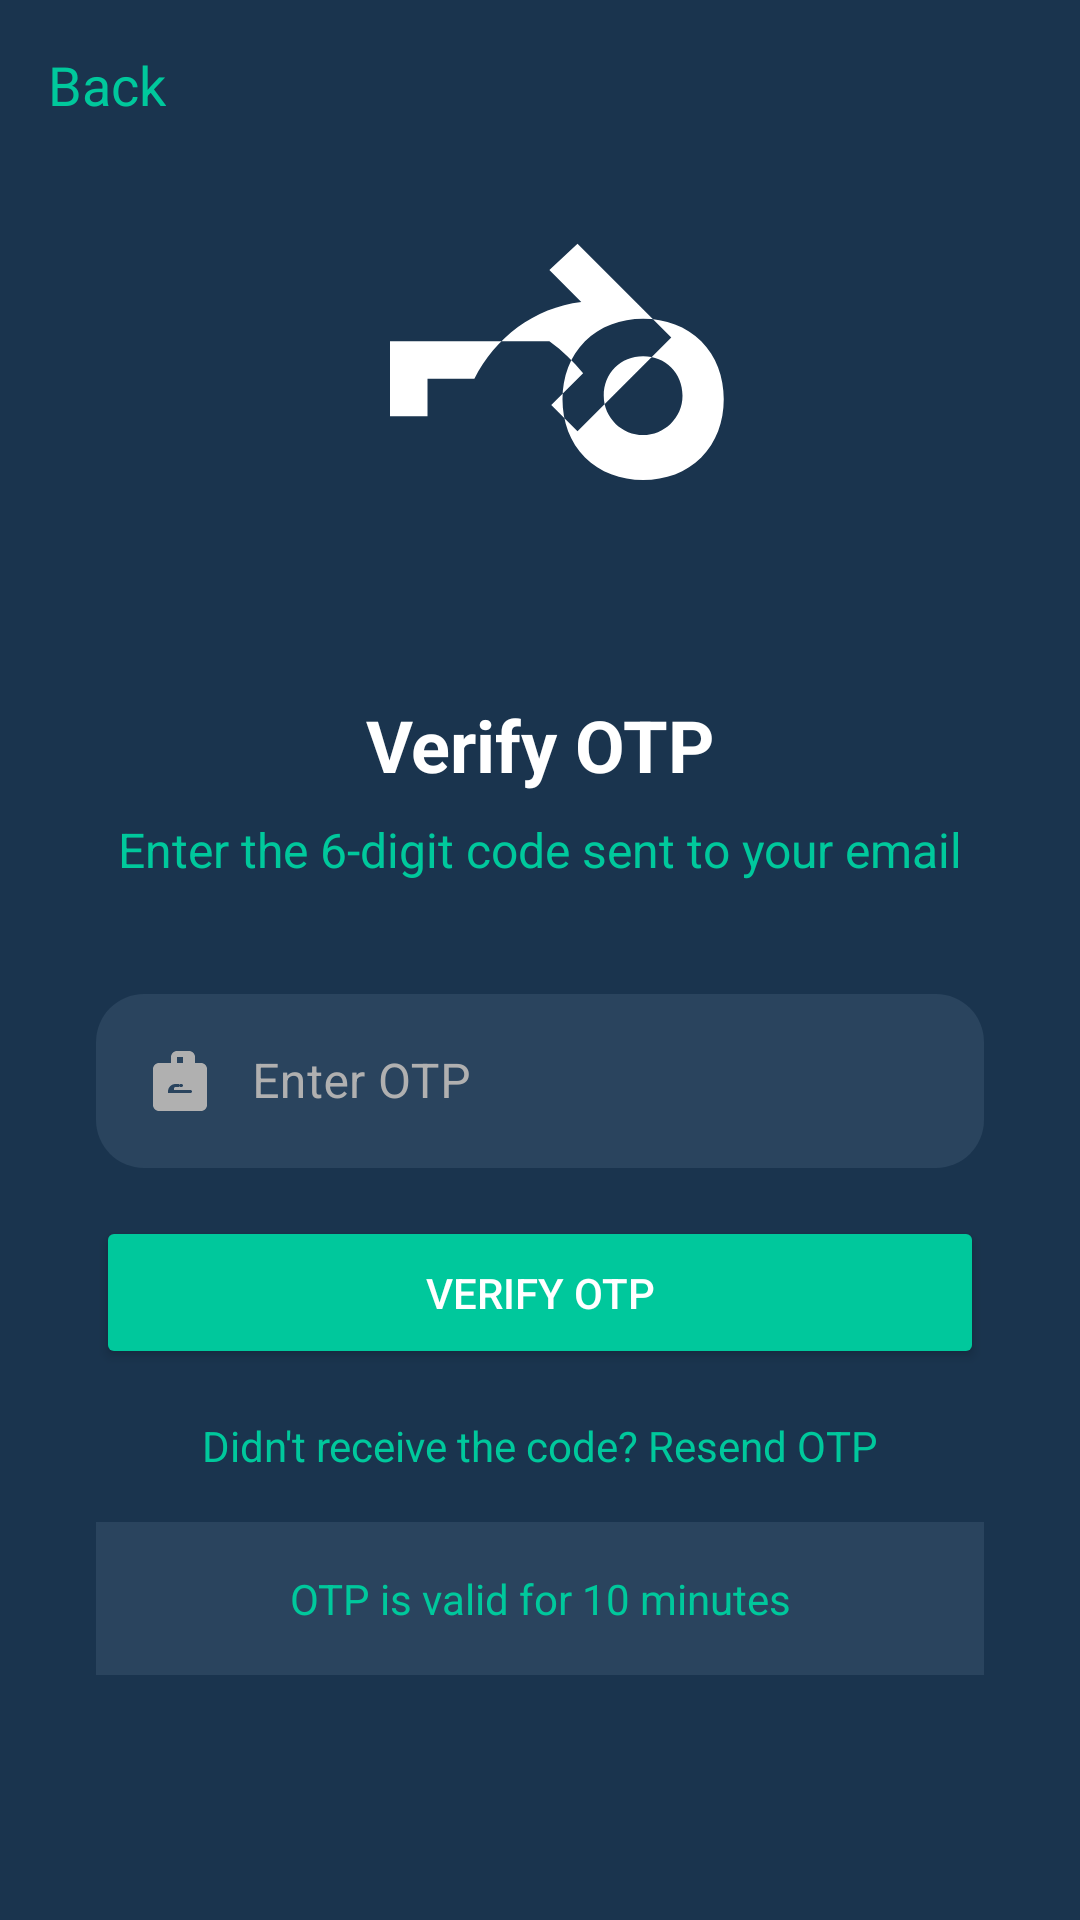

Named icons in this screenshot (1080x1920) and their bounding boxes, (x1, y1, x2, y2):
key: (390, 244, 724, 480)
